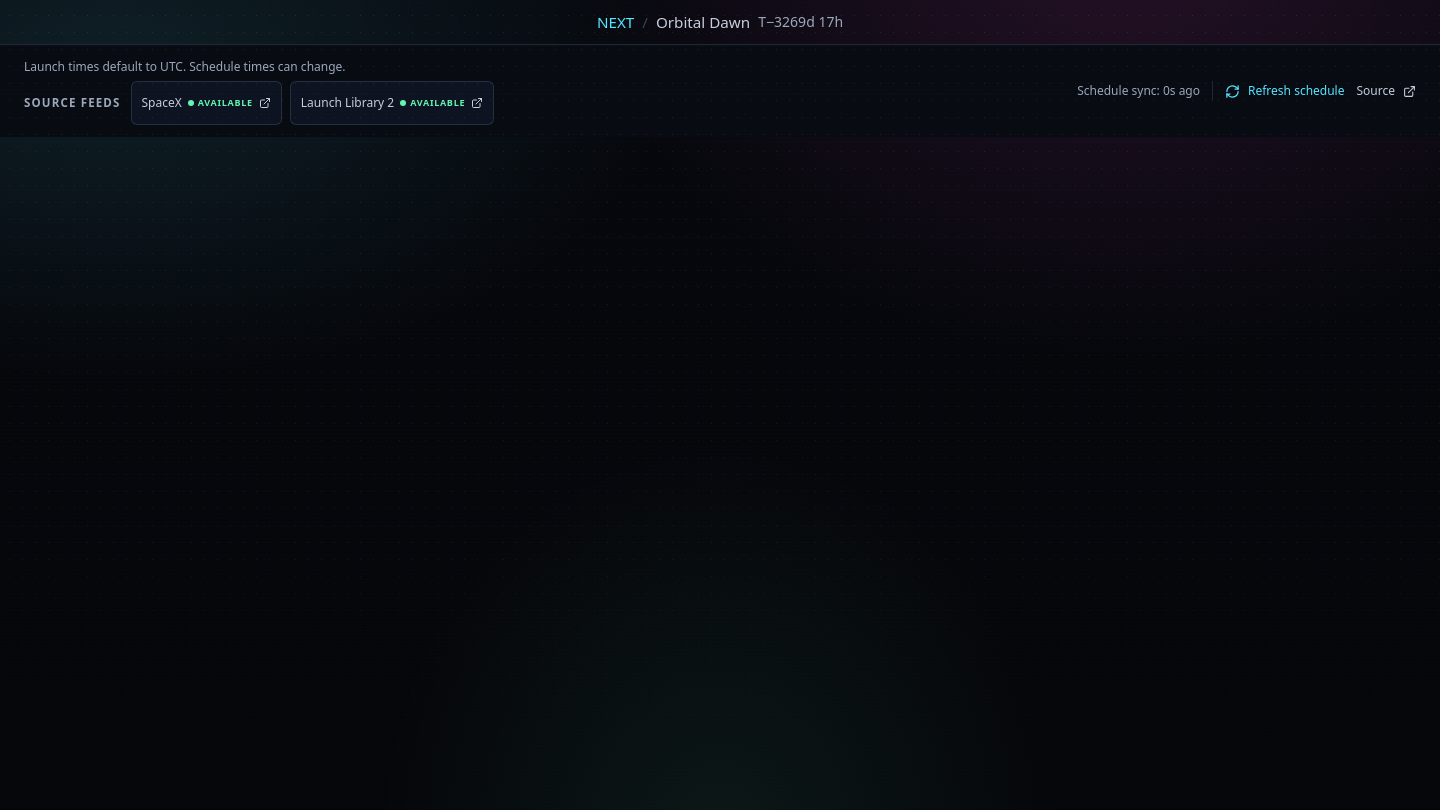
Test: LaunchTicker › keeps the last successful mission reachable after a refresh failure
Click the button with aria-label "Refresh launch schedule" at (1285, 91), box [1225, 69, 1344, 113]
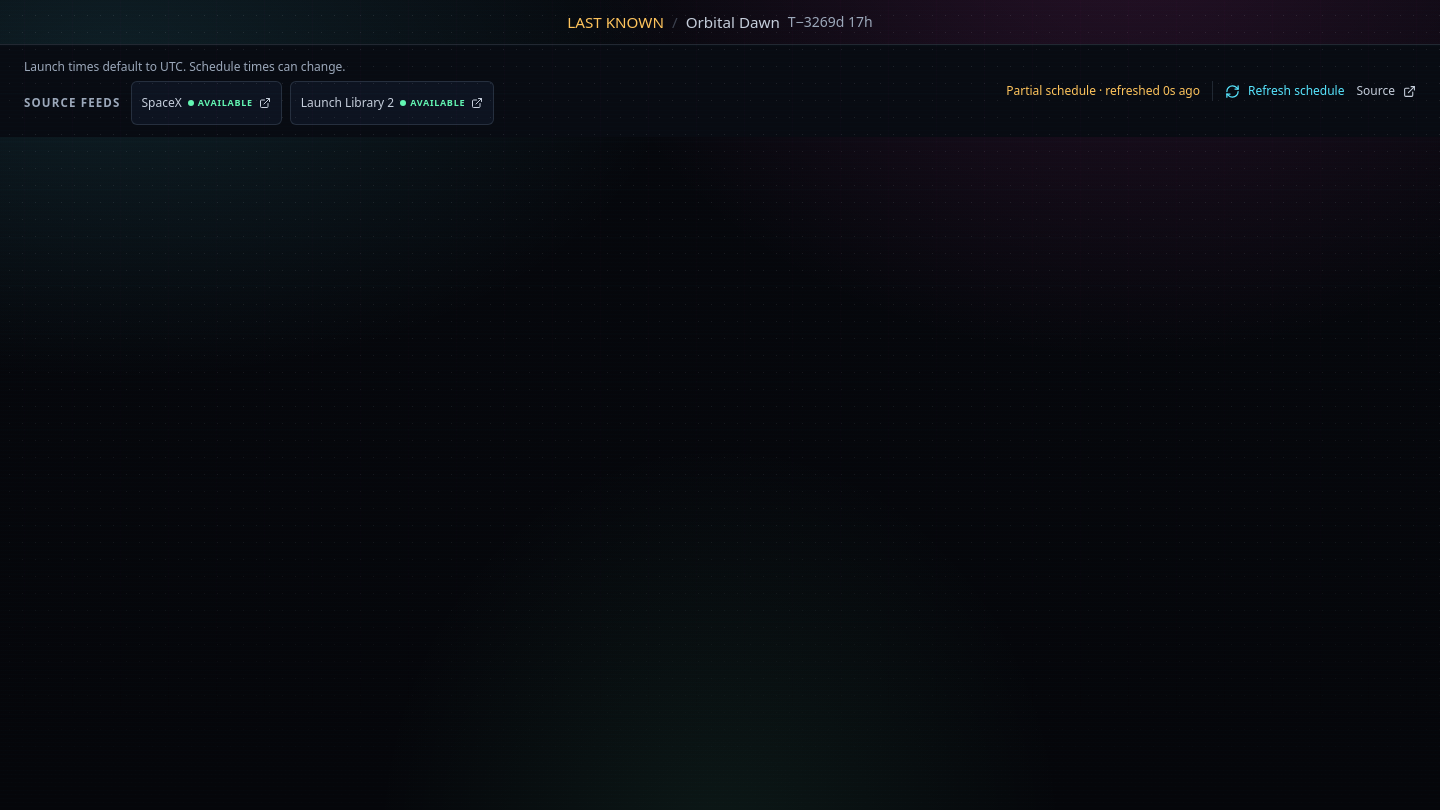
Check: the link "LAST KNOWN / Orbital Dawn T−3269d 17h" is shown, box [567, 0, 873, 44]
